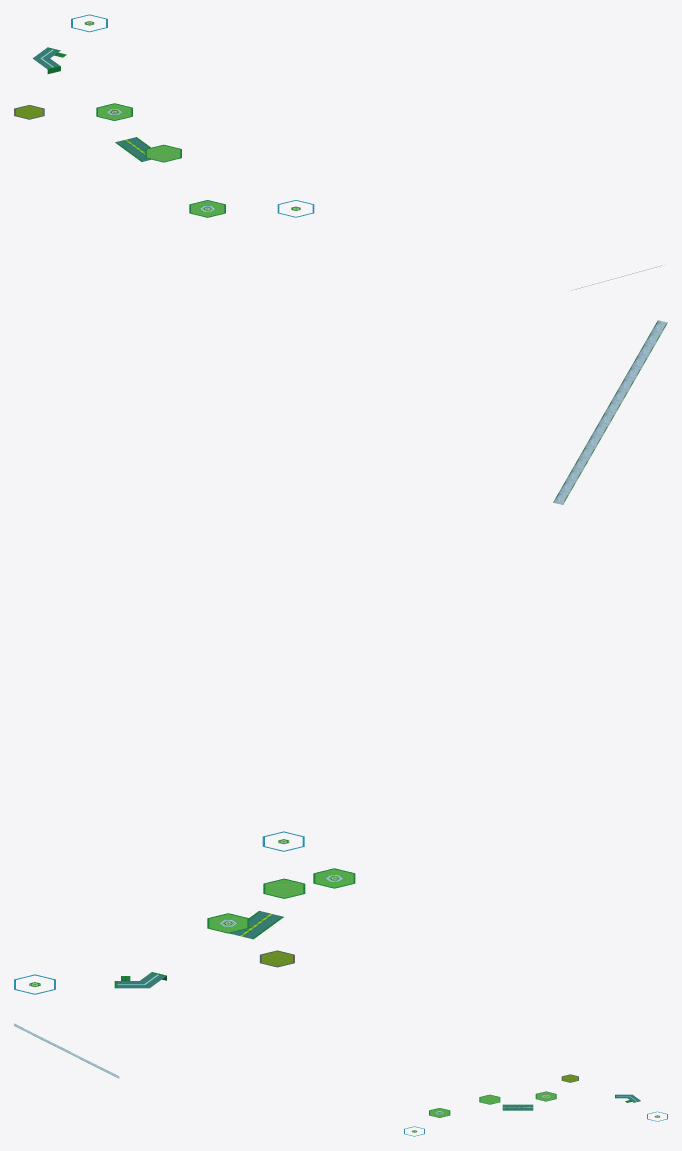
Rendered from S03_ONS_02.OBJ.
The picture shows the model from 3 angles, top to bottom: view 1: azimuth 30°, elevation 25°; view 2: azimuth 150°, elevation 25°; view 3: azimuth 270°, elevation 25°; orthographic projection. The views are drawn at different scales.
Visible parts, largest first — view 1: s03_ons_02_3, s03_ons_02_2, s03_ons_02_5; view 2: s03_ons_02_0, s03_ons_02_3; view 3: s03_ons_02_3, s03_ons_02_0, s03_ons_02_5, s03_ons_02_2.
Boxes of the visible parts, left/top/right/bottom form: s03_ons_02_3: left=98, top=104, right=224, bottom=216; s03_ons_02_2: left=47, top=47, right=225, bottom=217; s03_ons_02_5: left=33, top=48, right=150, bottom=161; s03_ons_02_0: left=553, top=320, right=667, bottom=504; s03_ons_02_3: left=209, top=869, right=353, bottom=932; s03_ons_02_3: left=430, top=1092, right=555, bottom=1117; s03_ons_02_0: left=14, top=1023, right=119, bottom=1078; s03_ons_02_5: left=502, top=1094, right=640, bottom=1110; s03_ons_02_2: left=429, top=1091, right=640, bottom=1117.
Bounding box in the file's own units: 1922 × 2110 × 11185.
